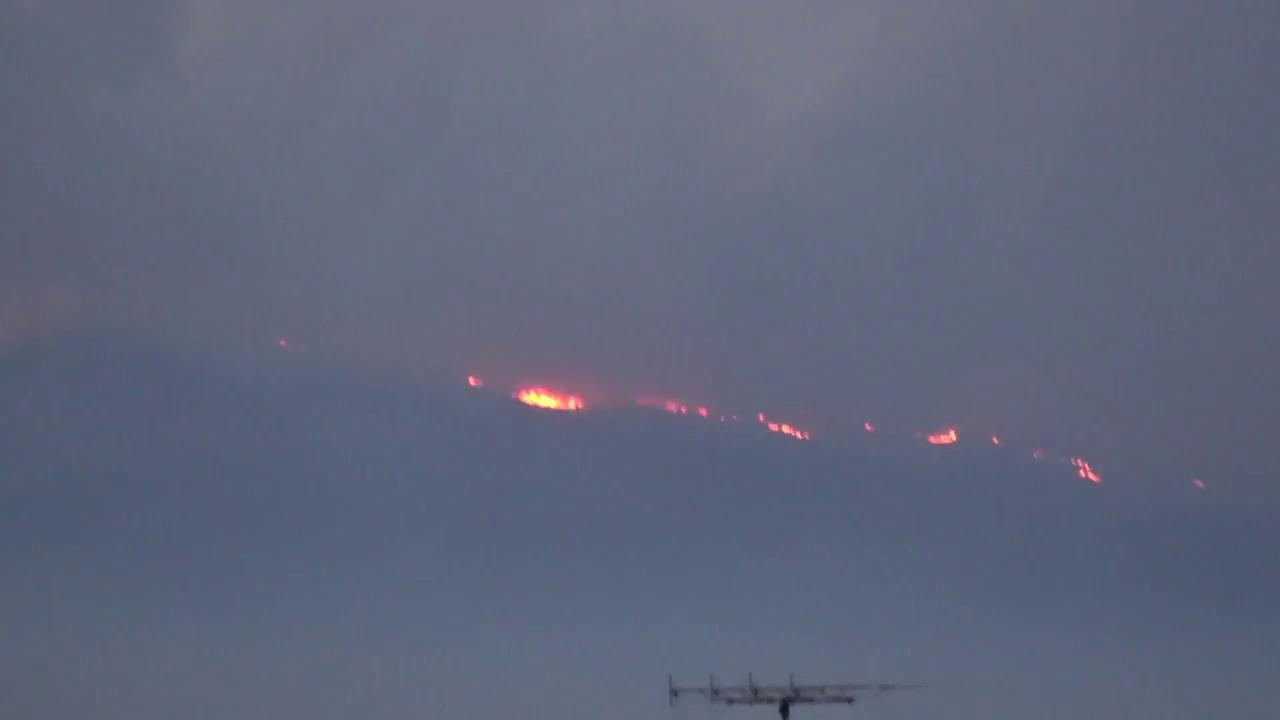fire: (638, 391, 709, 417), (514, 385, 581, 412), (754, 410, 810, 441), (1069, 456, 1100, 483), (927, 429, 957, 445)
